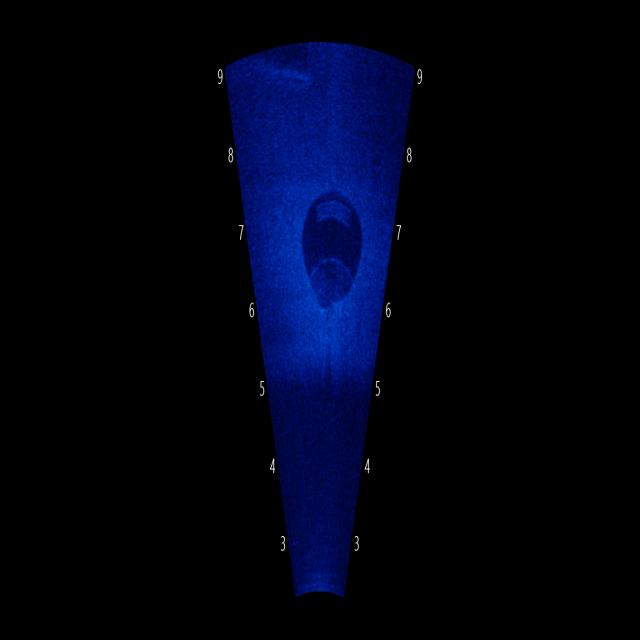circle: (296, 172, 369, 324)
